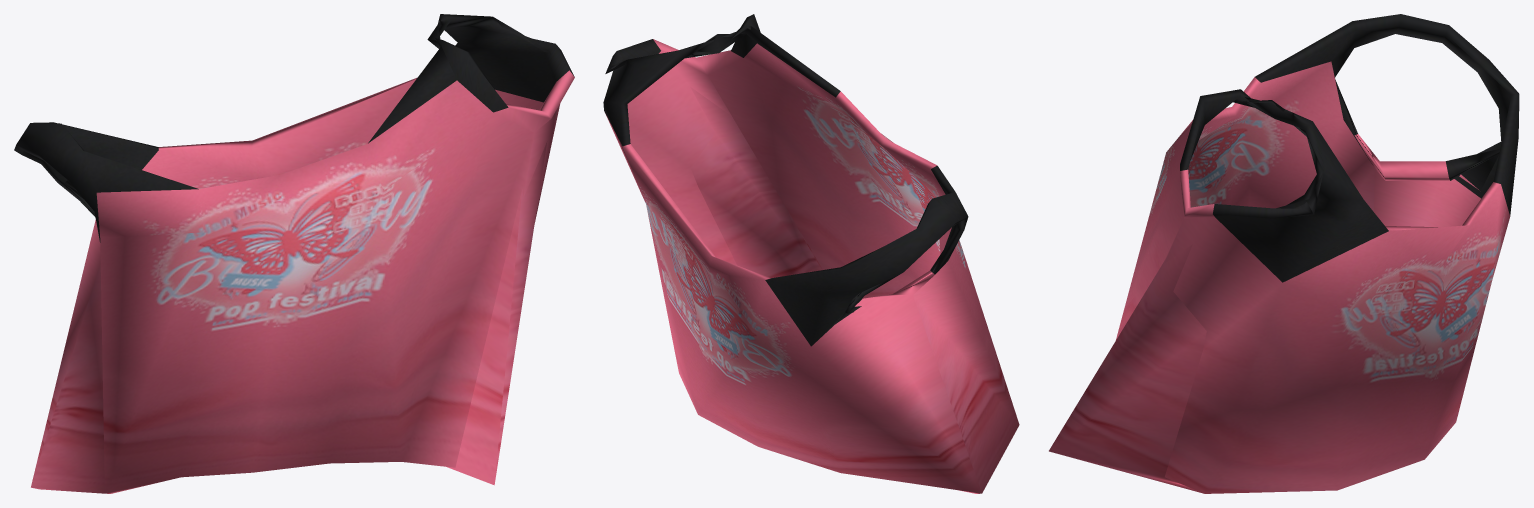
Rendered from m-top3.fbx.
3 views of the same model, side by side, from view 1: azimuth 30°, elevation 25°; view 2: azimuth 150°, elevation 25°; view 3: azimuth 270°, elevation 25° (orthographic). The views are drawn at different scales.
Parts seen in each view (by area): view 1: M.Top.Short.009; view 2: M.Top.Short.009; view 3: M.Top.Short.009.
Part boxes in pixels (box(x1,y1,x2,y2)): M.Top.Short.009: box(14, 14, 574, 493); M.Top.Short.009: box(603, 14, 1019, 493); M.Top.Short.009: box(1049, 14, 1519, 493).
Size of the model in its own units: 415 by 341 by 341.
